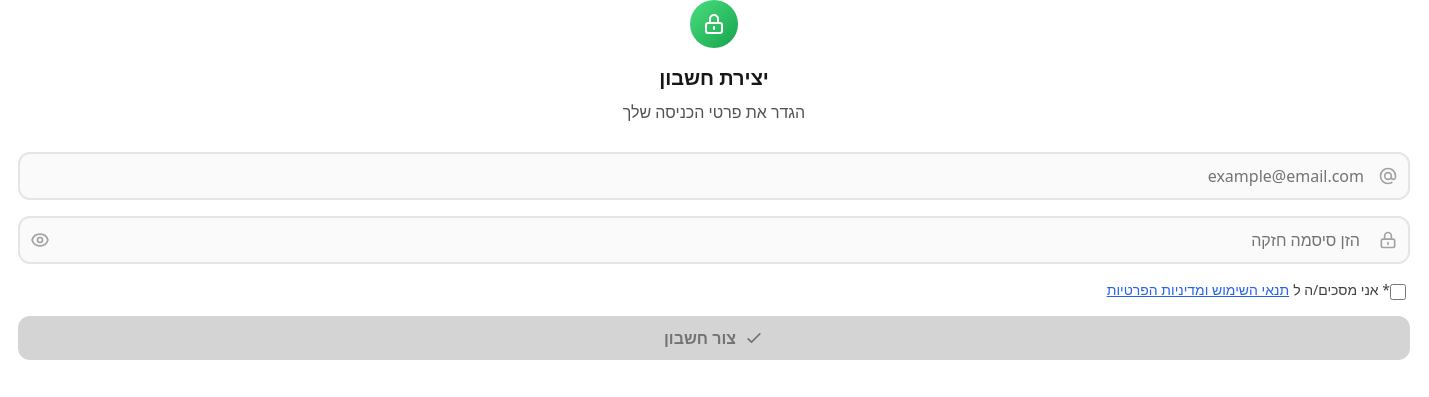
AccountDetailsStep › Password Field › should show password validation error
Type "123" into the password field with test id "password-input" at (714, 240), box [18, 216, 1410, 264]
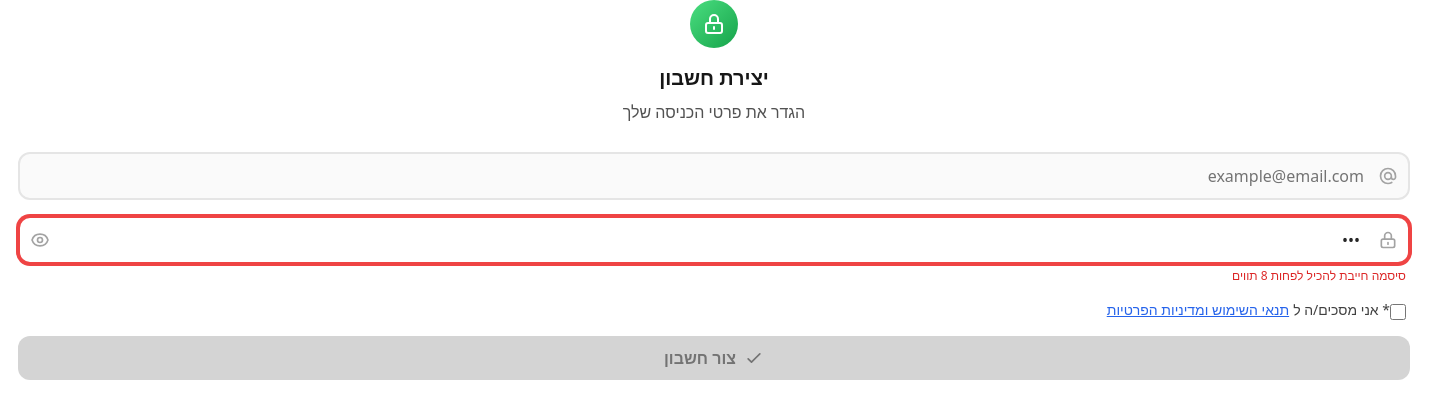
Result: the text with test id "password-error" reads "סיסמה חייבת להכיל לפחות 8 תווים" at [1232, 267, 1406, 284]
